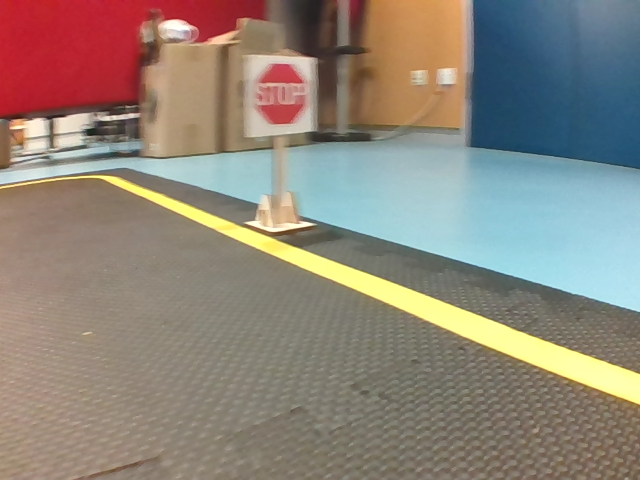stop: (246, 56, 314, 133)
